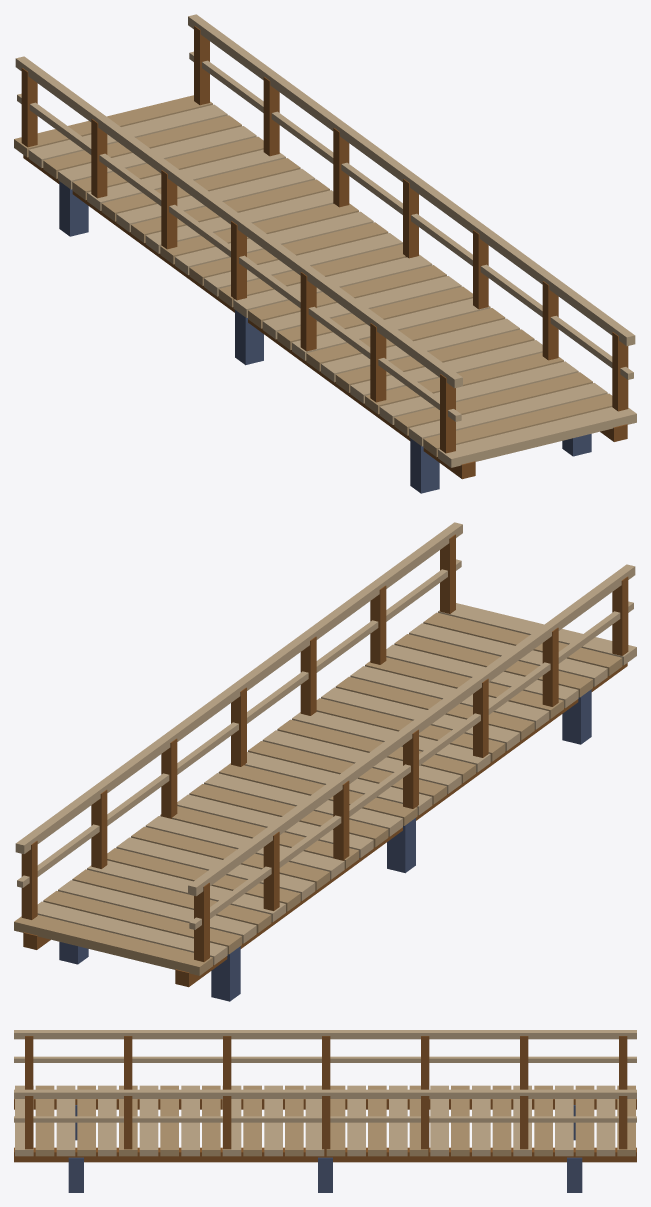
File: bridge.glb
3 views of the same model, one above another, from view 1: azimuth 30°, elevation 25°; view 2: azimuth 150°, elevation 25°; view 3: azimuth 270°, elevation 25° (orthographic). The views are drawn at different scales.
Visible parts, largest first — view 1: bridge_mesh; view 2: bridge_mesh; view 3: bridge_mesh.
Part boxes in pixels (x1=…): bridge_mesh: x1=14, y1=14, x2=636, y2=493; bridge_mesh: x1=14, y1=522, x2=636, y2=1001; bridge_mesh: x1=14, y1=1030, x2=636, y2=1192.
Bounding box in the file's own units: 2.2 × 1.62 × 9.
